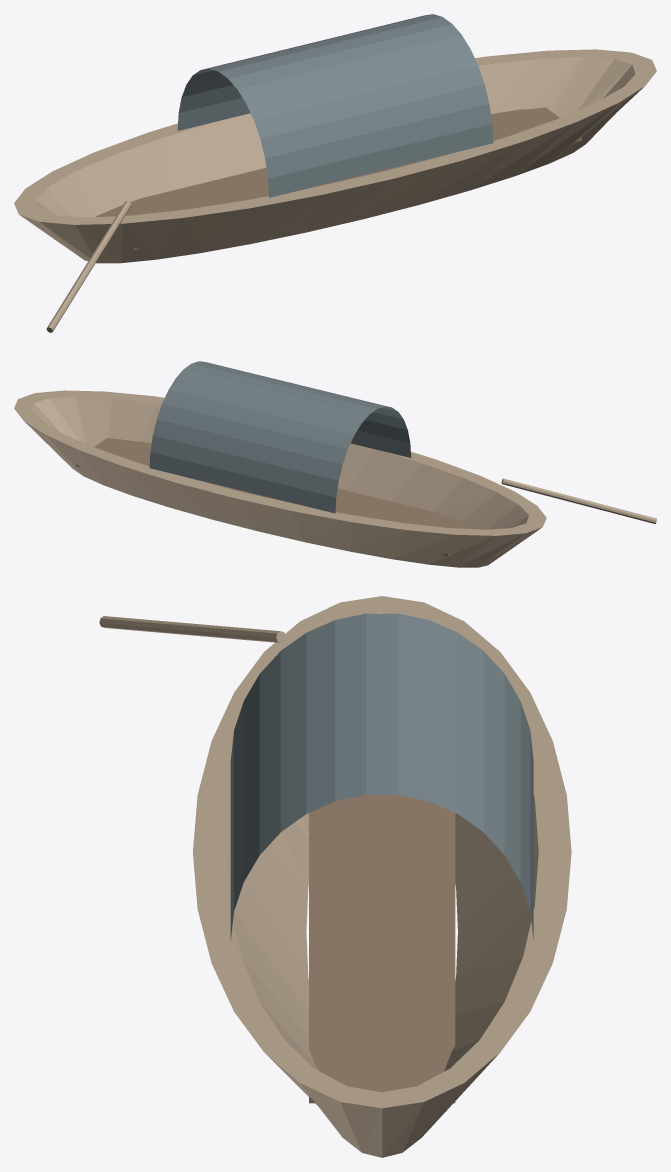
File: prop_wupeng_boat.glb
The picture shows the model from 3 angles, top to bottom: view 1: azimuth 30°, elevation 25°; view 2: azimuth 150°, elevation 25°; view 3: azimuth 270°, elevation 25°; orthographic projection. The views are drawn at different scales.
Parts seen in each view (by area): view 1: prop_wupeng_boat/wupeng_boat_hull_00000, prop_wupeng_boat/wupeng_canopy_arch_00002, prop_wupeng_boat/wupeng_canopy_arch_00003, prop_wupeng_boat/wupeng_boat_deck_00001, prop_wupeng_boat/wupeng_boat_oar_00004; view 2: prop_wupeng_boat/wupeng_boat_hull_00000, prop_wupeng_boat/wupeng_canopy_arch_00002, prop_wupeng_boat/wupeng_canopy_arch_00003, prop_wupeng_boat/wupeng_boat_deck_00001, prop_wupeng_boat/wupeng_boat_oar_00004; view 3: prop_wupeng_boat/wupeng_boat_hull_00000, prop_wupeng_boat/wupeng_boat_deck_00001, prop_wupeng_boat/wupeng_canopy_arch_00002, prop_wupeng_boat/wupeng_canopy_arch_00003, prop_wupeng_boat/wupeng_boat_oar_00004.
Boxes of the visible parts, left/top/right/bottom form: prop_wupeng_boat/wupeng_boat_hull_00000: left=14, top=49, right=656, bottom=263; prop_wupeng_boat/wupeng_canopy_arch_00002: left=177, top=40, right=385, bottom=197; prop_wupeng_boat/wupeng_canopy_arch_00003: left=308, top=14, right=493, bottom=171; prop_wupeng_boat/wupeng_boat_deck_00001: left=96, top=107, right=581, bottom=249; prop_wupeng_boat/wupeng_boat_oar_00004: left=46, top=201, right=131, bottom=332; prop_wupeng_boat/wupeng_boat_hull_00000: left=14, top=390, right=546, bottom=567; prop_wupeng_boat/wupeng_canopy_arch_00002: left=237, top=382, right=411, bottom=513; prop_wupeng_boat/wupeng_canopy_arch_00003: left=149, top=361, right=291, bottom=489; prop_wupeng_boat/wupeng_boat_deck_00001: left=76, top=438, right=477, bottom=556; prop_wupeng_boat/wupeng_boat_oar_00004: left=501, top=478, right=656, bottom=523; prop_wupeng_boat/wupeng_boat_hull_00000: left=193, top=596, right=571, bottom=1157; prop_wupeng_boat/wupeng_boat_deck_00001: left=309, top=795, right=455, bottom=1103; prop_wupeng_boat/wupeng_canopy_arch_00002: left=230, top=613, right=533, bottom=855; prop_wupeng_boat/wupeng_canopy_arch_00003: left=230, top=700, right=533, bottom=941; prop_wupeng_boat/wupeng_boat_oar_00004: left=99, top=616, right=286, bottom=642.
Bounding box in the file's own units: 5.21 × 1.1 × 1.87.
